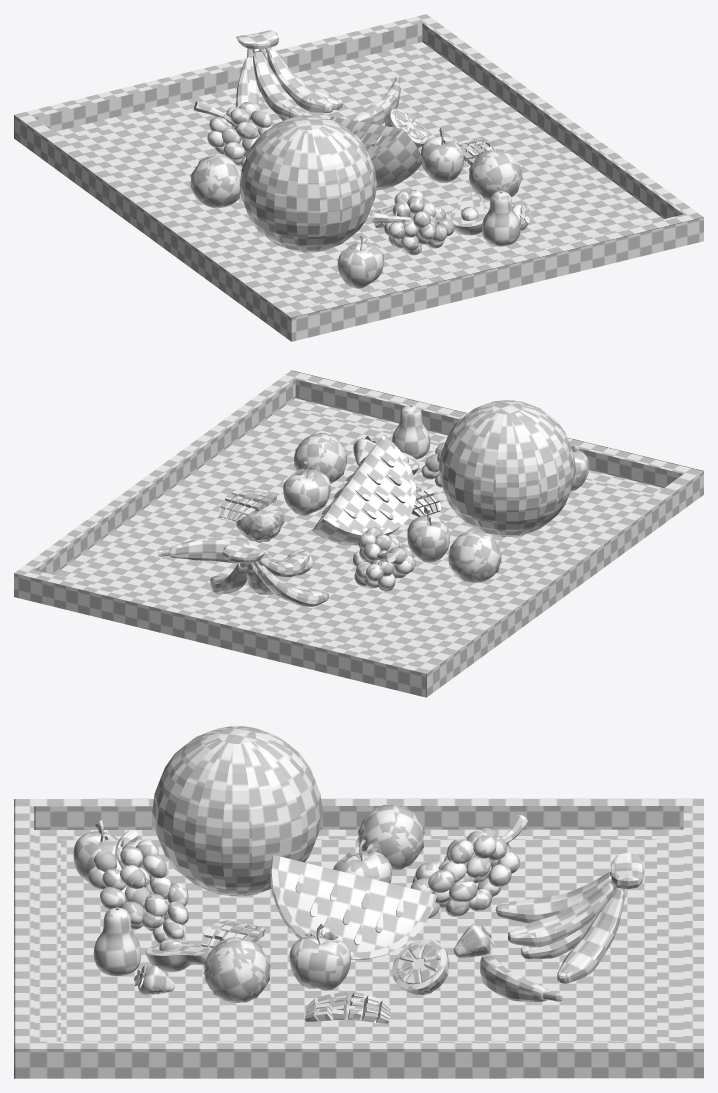
Rendered from Level_3.fbx.
3 renders of one model, top to bottom at view 1: azimuth 30°, elevation 25°; view 2: azimuth 150°, elevation 25°; view 3: azimuth 270°, elevation 25°, orthographic. The views are drawn at different scales.
Parts seen in each view (by area): view 1: Plane, Plane_001, Plane_002, Plane_003, Plane_004, Grapes, Sphere_003, Sphere_004, Sphere_002, Orange_001, Outer_watermelon, Orange (+16 smaller); view 2: Plane, Plane_001, Plane_002, Plane_003, Plane_004, Inner_watermelon, Grapes, Sphere_009, Sphere_010, Orange_001, Sphere_008, Sphere_007 (+16 smaller); view 3: Plane, Plane_001, Plane_002, Plane_004, Grapes, Plane_003, Inner_watermelon, Sphere_015, Sphere_016, Sphere_014, Orange, Orange_001 (+25 smaller).
Part boxes in pixels (x1,y1,x2,y2): Plane: (65, 54, 647, 308); Plane_001: (14, 115, 703, 341); Plane_002: (14, 14, 703, 317); Plane_003: (34, 23, 683, 218); Plane_004: (54, 42, 663, 222); Grapes: (207, 102, 454, 255); Sphere_003: (296, 130, 320, 252); Sphere_004: (274, 129, 305, 252); Sphere_002: (311, 129, 342, 252); Orange_001: (190, 155, 241, 208); Outer_watermelon: (329, 116, 422, 190); Orange: (468, 149, 522, 200); Plane: (70, 410, 652, 664); Plane_001: (14, 471, 703, 697); Plane_002: (14, 370, 703, 673); Plane_003: (34, 379, 682, 574); Plane_004: (54, 398, 663, 578); Inner_watermelon: (315, 438, 411, 530); Grapes: (353, 442, 445, 591); Sphere_009: (495, 414, 519, 536); Sphere_010: (473, 413, 504, 536); Orange_001: (448, 529, 501, 583); Sphere_008: (510, 413, 541, 536); Sphere_007: (515, 412, 559, 533); Plane: (61, 839, 656, 1041); Plane_001: (14, 1049, 703, 1078); Plane_002: (14, 798, 703, 1048); Plane_004: (34, 829, 683, 1041); Grapes: (88, 827, 519, 943); Plane_003: (34, 806, 683, 1041); Inner_watermelon: (278, 856, 430, 952); Sphere_015: (222, 744, 252, 896); Sphere_016: (195, 743, 233, 896); Sphere_014: (241, 743, 279, 896); Orange: (203, 937, 270, 1002); Orange_001: (357, 805, 424, 870).
Bounding box in the file's own units: 1280 × 380 × 1492.
1 material, 1 textured.
